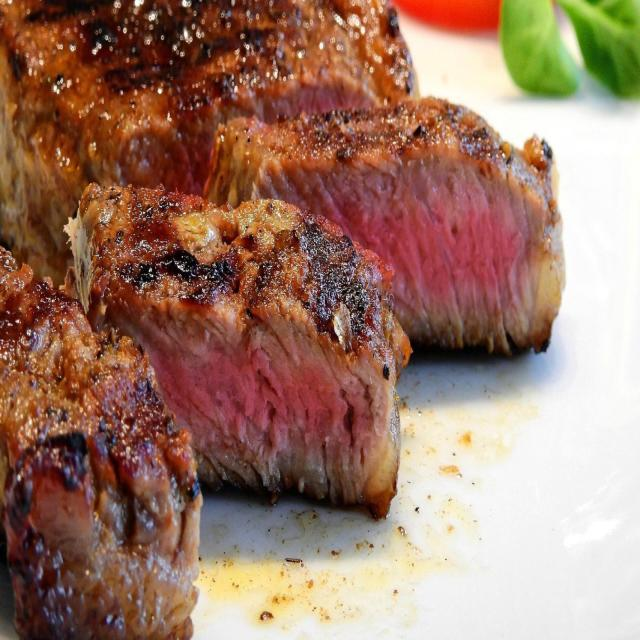carne de res: (68, 179, 417, 534)
